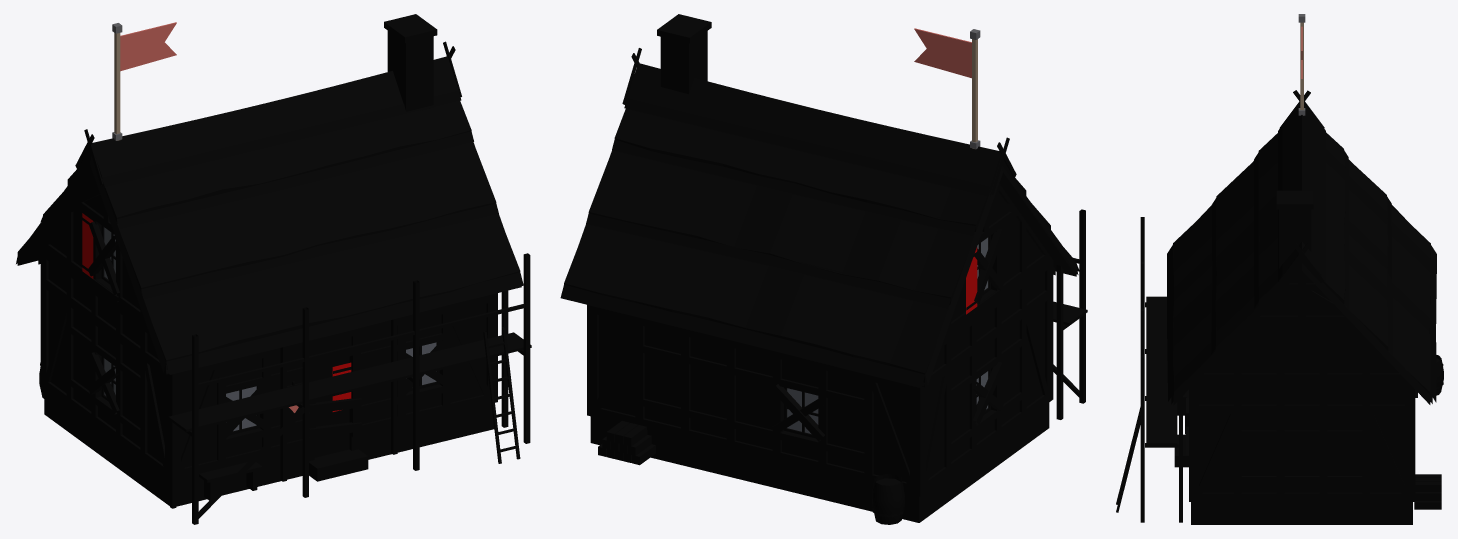
The model's file is wohnhaus_mensch_s1_g2.glb.
The picture shows the model from 3 angles, left to right: view 1: azimuth 30°, elevation 25°; view 2: azimuth 150°, elevation 25°; view 3: azimuth 270°, elevation 25°; orthographic projection. The views are drawn at different scales.
Visible parts, largest first — view 1: Dach, Haus, Geruest, Leerstand, Fahne, Scheiben; view 2: Dach, Haus, Leerstand, Geruest, Fahne, Scheiben; view 3: Haus, Dach, Geruest, Fahne.
Part boxes in pixels (left/top/right/bottom): Dach: left=16, top=41, right=523, bottom=374; Haus: left=39, top=14, right=497, bottom=506; Geruest: left=168, top=253, right=531, bottom=524; Leerstand: left=87, top=221, right=451, bottom=438; Fahne: left=112, top=22, right=176, bottom=140; Scheiben: left=104, top=227, right=436, bottom=431; Dach: left=560, top=48, right=1079, bottom=388; Haus: left=587, top=14, right=1053, bottom=524; Leerstand: left=771, top=228, right=1004, bottom=441; Geruest: left=1053, top=209, right=1087, bottom=419; Fahne: left=914, top=28, right=980, bottom=149; Scheiben: left=787, top=237, right=988, bottom=433; Haus: left=1174, top=190, right=1443, bottom=524; Dach: left=1167, top=90, right=1436, bottom=404; Geruest: left=1116, top=217, right=1182, bottom=522; Fahne: left=1298, top=14, right=1305, bottom=115.
Size of the model in its own units: 7.86 by 9 by 7.09.
